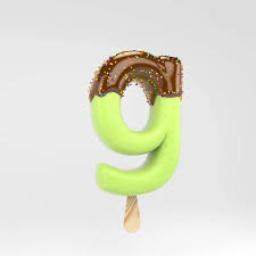g: (86, 47, 196, 205)
